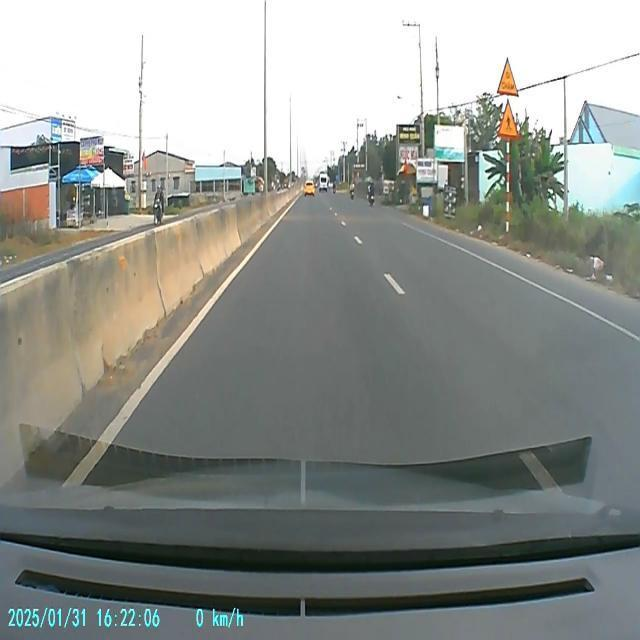224-duong-nguoi-di-bo-cat-ngang: (496, 100, 519, 140)
245-di-cham: (496, 58, 520, 97)
